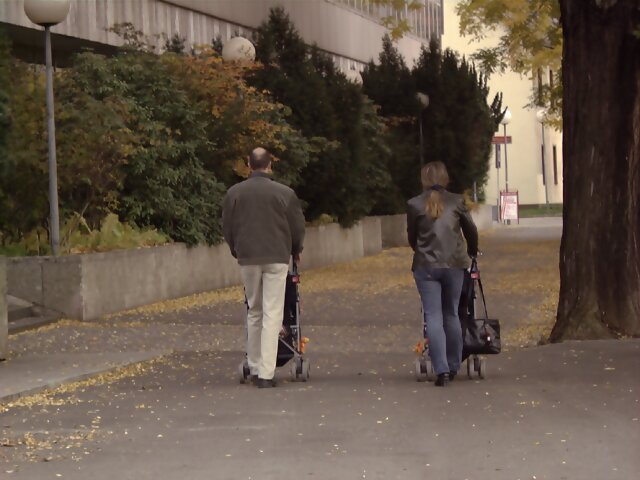person: (215, 140, 307, 399), (400, 154, 484, 389)
